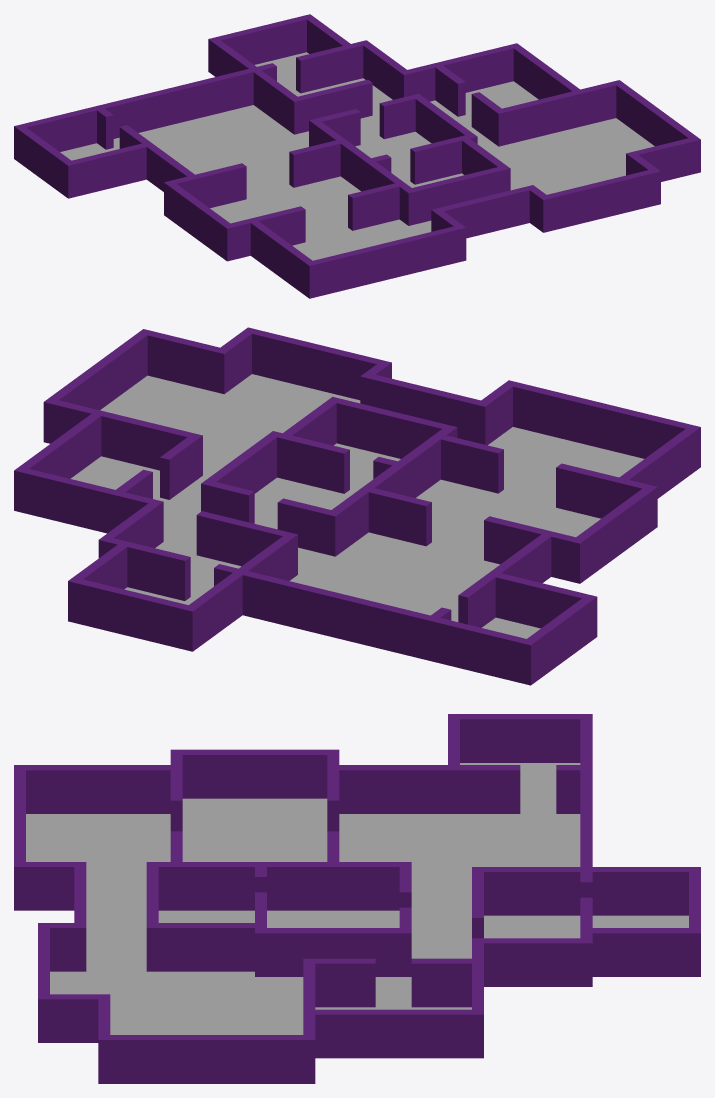
Rendered from Floor&Walls_V7.fbx.
The picture shows the model from 3 angles, top to bottom: view 1: azimuth 30°, elevation 25°; view 2: azimuth 150°, elevation 25°; view 3: azimuth 270°, elevation 25°; orthographic projection. The views are drawn at different scales.
Visible parts, largest first — view 1: Floor, Wall39, Wall20, Wall29, Wall26, Wall8, Wall35, Wall30, Wall3, Wall38, Wall36, Wall25 (+27 smaller); view 2: Floor, Wall39, Wall20, Wall30, Wall8, Wall26, Wall29, Wall38, Wall3, Wall25, Wall23, Wall27 (+26 smaller); view 3: Floor, Wall3, Wall25, Wall17, Wall7, Wall38, Wall37, Wall33, Wall24, Wall6, Wall18, Wall11 (+24 smaller).
Part boxes in pixels (x1,y1,x2,y2): Floor: [60, 52, 654, 260]; Wall39: [14, 63, 276, 161]; Wall20: [305, 224, 466, 298]; Wall29: [494, 82, 616, 146]; Wall26: [547, 170, 652, 230]; Wall8: [399, 43, 521, 101]; Wall35: [63, 143, 146, 198]; Wall30: [208, 14, 314, 74]; Wall3: [313, 122, 416, 225]; Wall38: [164, 180, 234, 261]; Wall36: [439, 187, 529, 238]; Wall25: [612, 80, 700, 174]; Floor: [70, 374, 643, 638]; Wall39: [214, 564, 536, 685]; Wall20: [503, 380, 700, 470]; Wall30: [68, 577, 198, 651]; Wall8: [14, 466, 163, 545]; Wall26: [252, 329, 381, 400]; Wall29: [53, 400, 202, 479]; Wall38: [570, 484, 657, 583]; Wall3: [332, 425, 457, 552]; Wall25: [43, 329, 152, 443]; Wall23: [336, 399, 447, 458]; Wall27: [147, 331, 229, 394]; Floor: [26, 763, 688, 1034]; Wall3: [146, 862, 399, 910]; Wall25: [98, 1035, 315, 1083]; Wall17: [339, 765, 520, 813]; Wall7: [315, 1009, 471, 1058]; Wall38: [170, 749, 339, 798]; Wall37: [26, 765, 170, 813]; Wall33: [460, 714, 580, 762]; Wall24: [146, 923, 254, 971]; Wall6: [267, 928, 399, 976]; Wall18: [472, 867, 580, 915]; Wall11: [484, 938, 580, 986].
Bounding box in the file's own units: 6400 × 400 × 5700.
